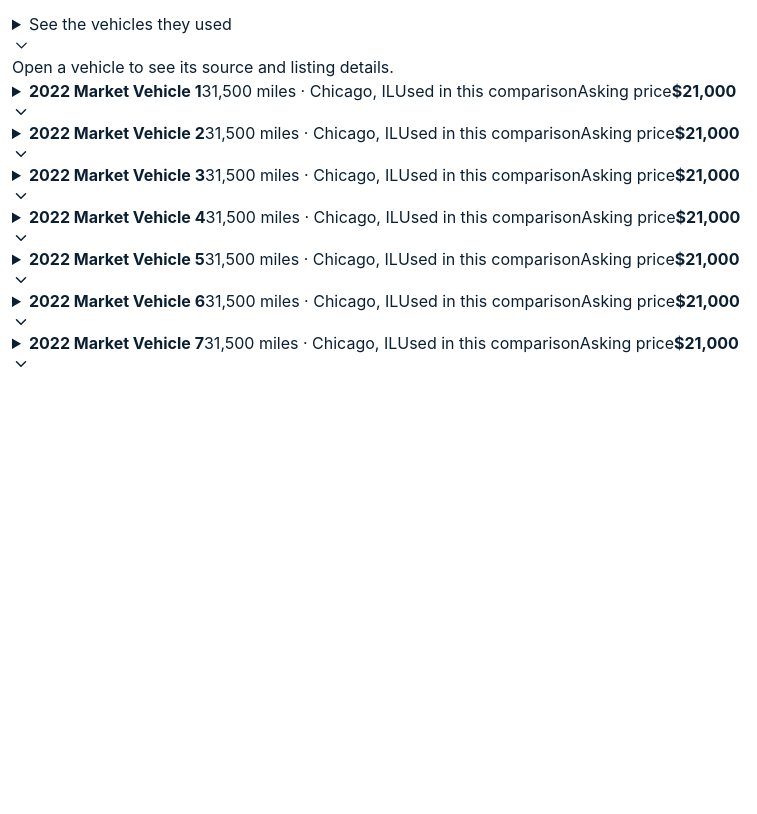
Test case: completed case evidence › opens each evidence source only through explicit inspection
expect the text "Dealer 7" is not shown: met
What coordinates should you click on to do the following:
click the text "2022 Market Vehicle 7"
I would click on:
 (116, 343)
Its box is [29, 333, 204, 353].
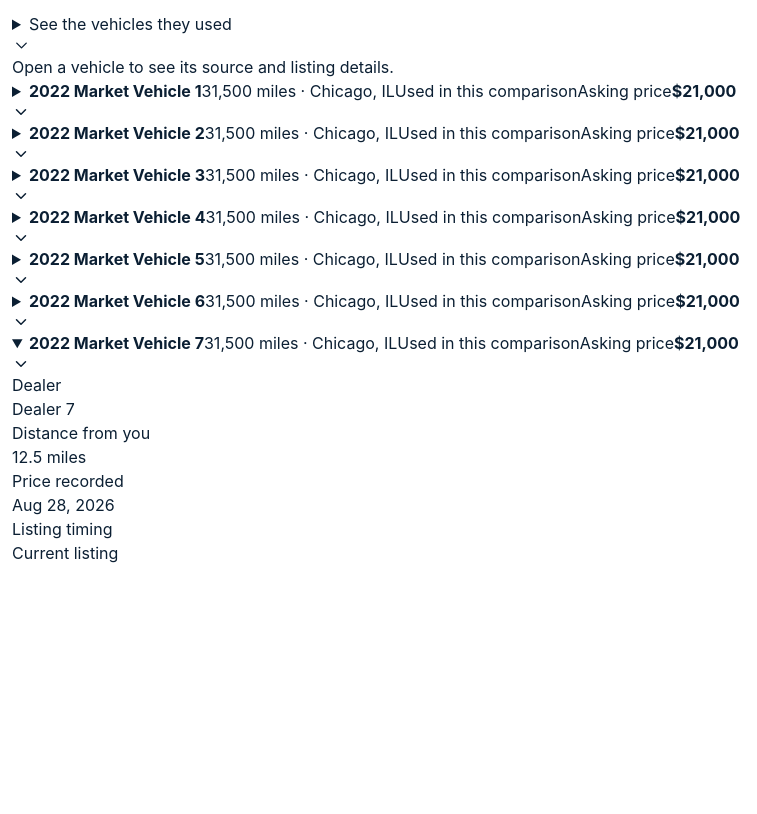
expect the text "2022 Insurer Vehicle 1" is not shown: met
expect the text "Dealer 7" is shown: met, box [12, 399, 75, 419]
What coordinates should you click on to do the following:
click the heading "See the vehicles they used"
I would click on:
 (122, 34)
Its box is [12, 14, 232, 55].
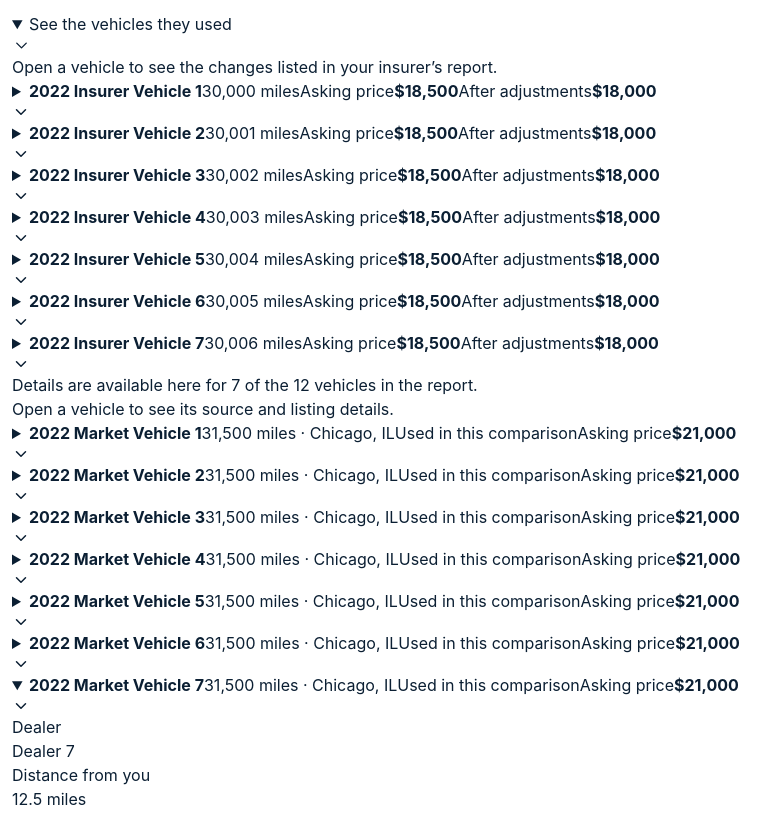
expect the text "2022 Insurer Vehicle 1" is shown: met, box [29, 81, 202, 101]
